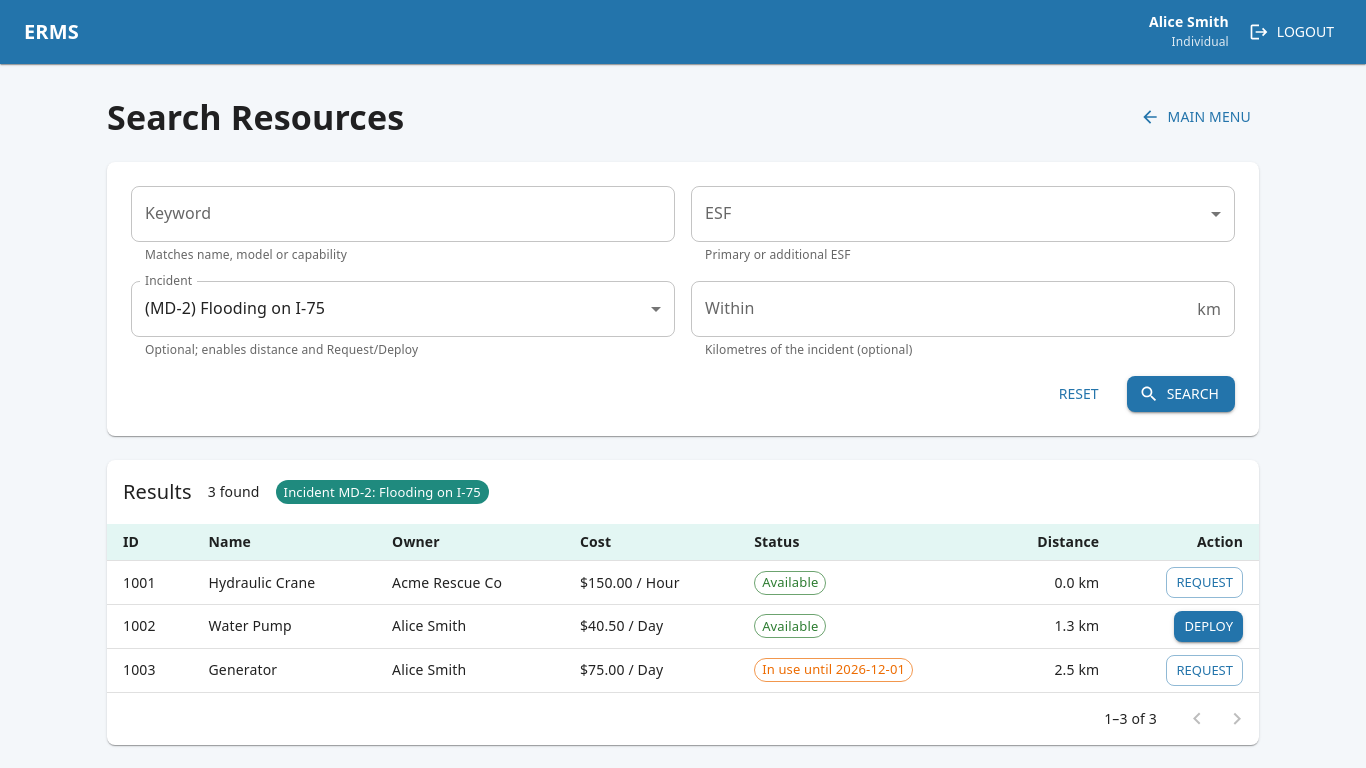
Scenario: SearchResourcesPage › requires an incident before searching by distance and clears distance with the incident
The width and height of the screenshot is (1366, 768).
Expected: the column heading "Action" is shown, [1115, 524, 1259, 561]
In the field labelled "Within": (940, 309) [691, 281, 1189, 337], type "0"
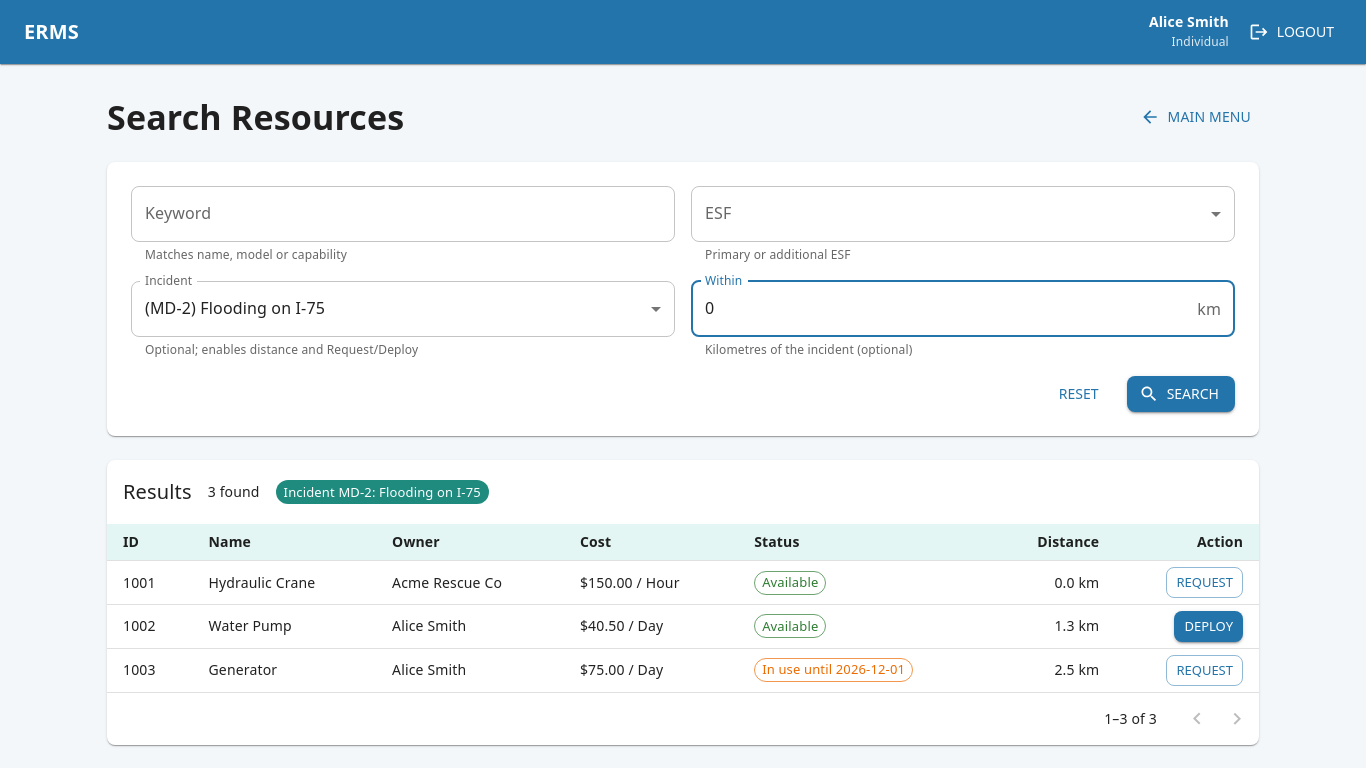
Click the button "Search": (1181, 394) [1127, 376, 1235, 412]
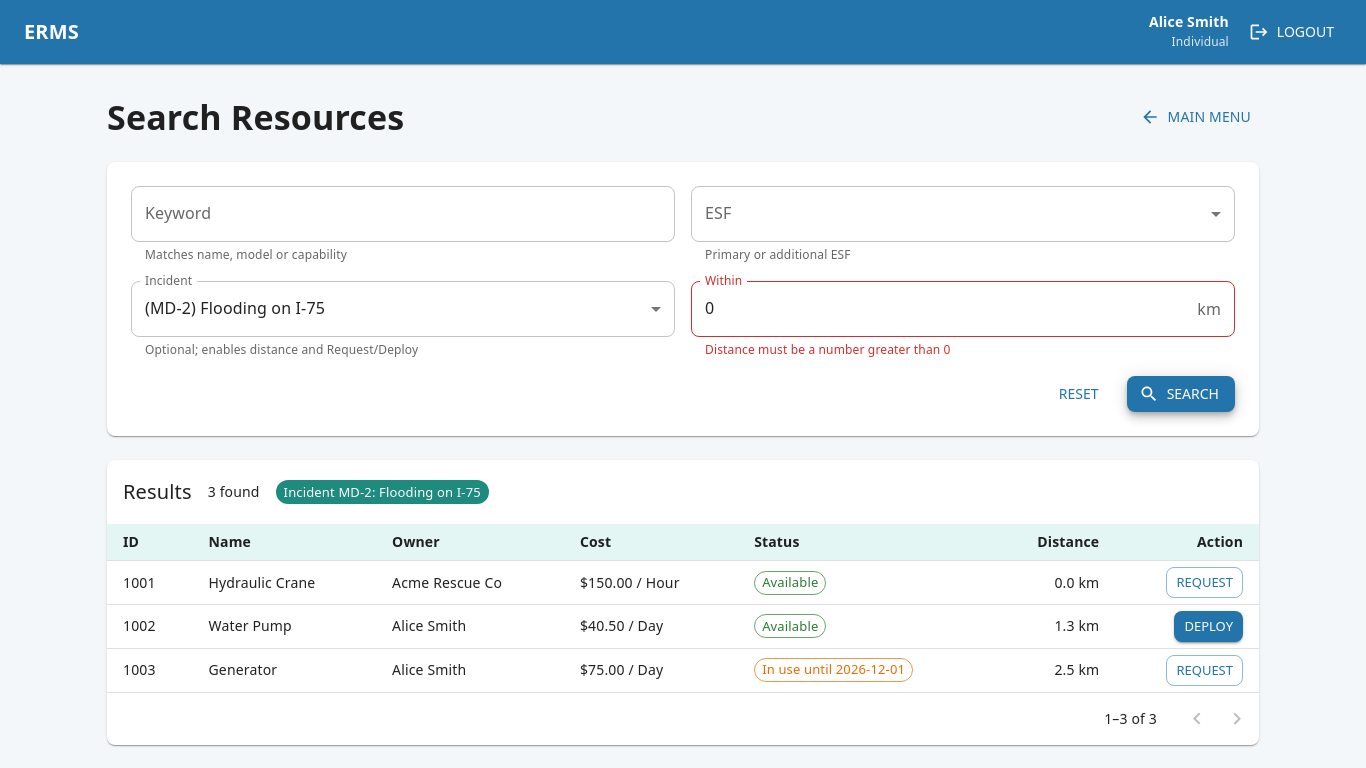
Expected: the text "Distance must be a number greater than 0" is shown, [705, 341, 951, 358]
Click the dropdown named "incident": (235, 308) [145, 297, 325, 319]
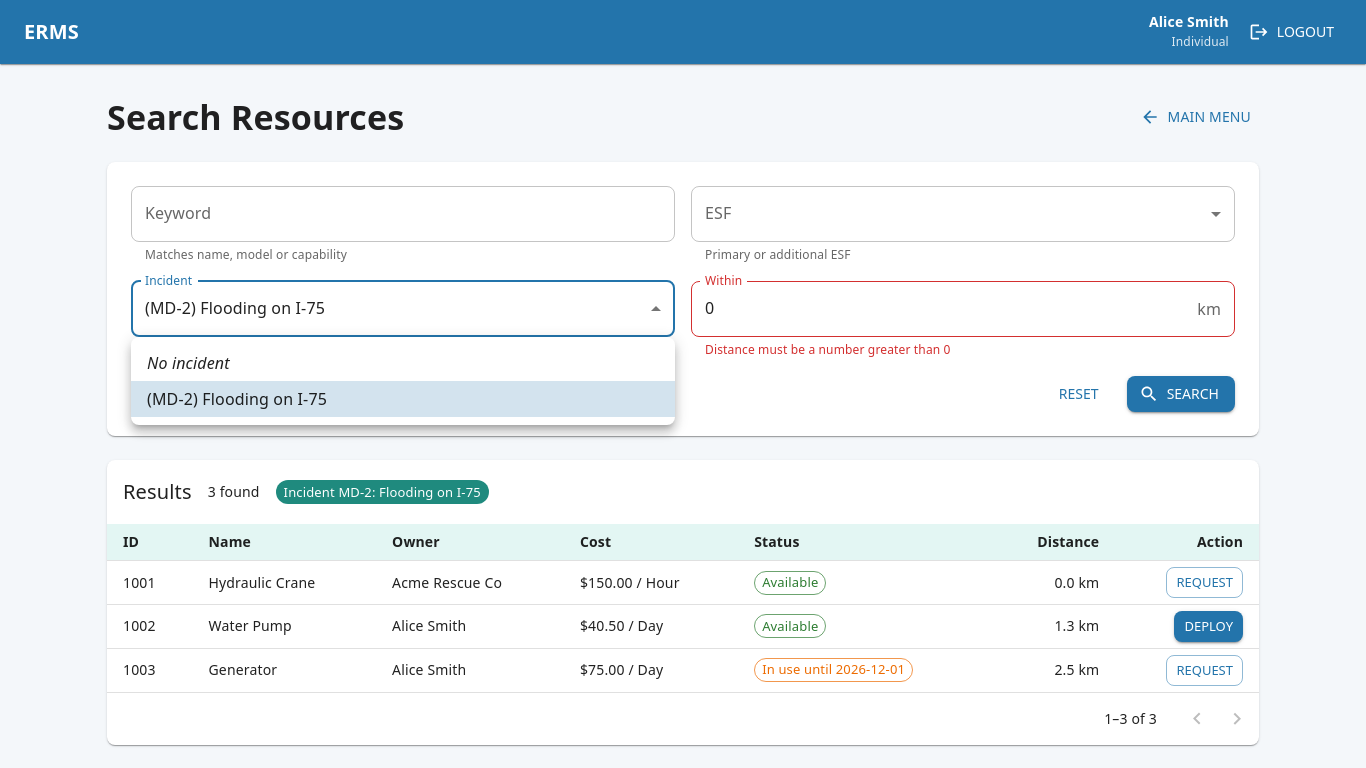
Click the option "No incident": (188, 363) [147, 352, 230, 374]
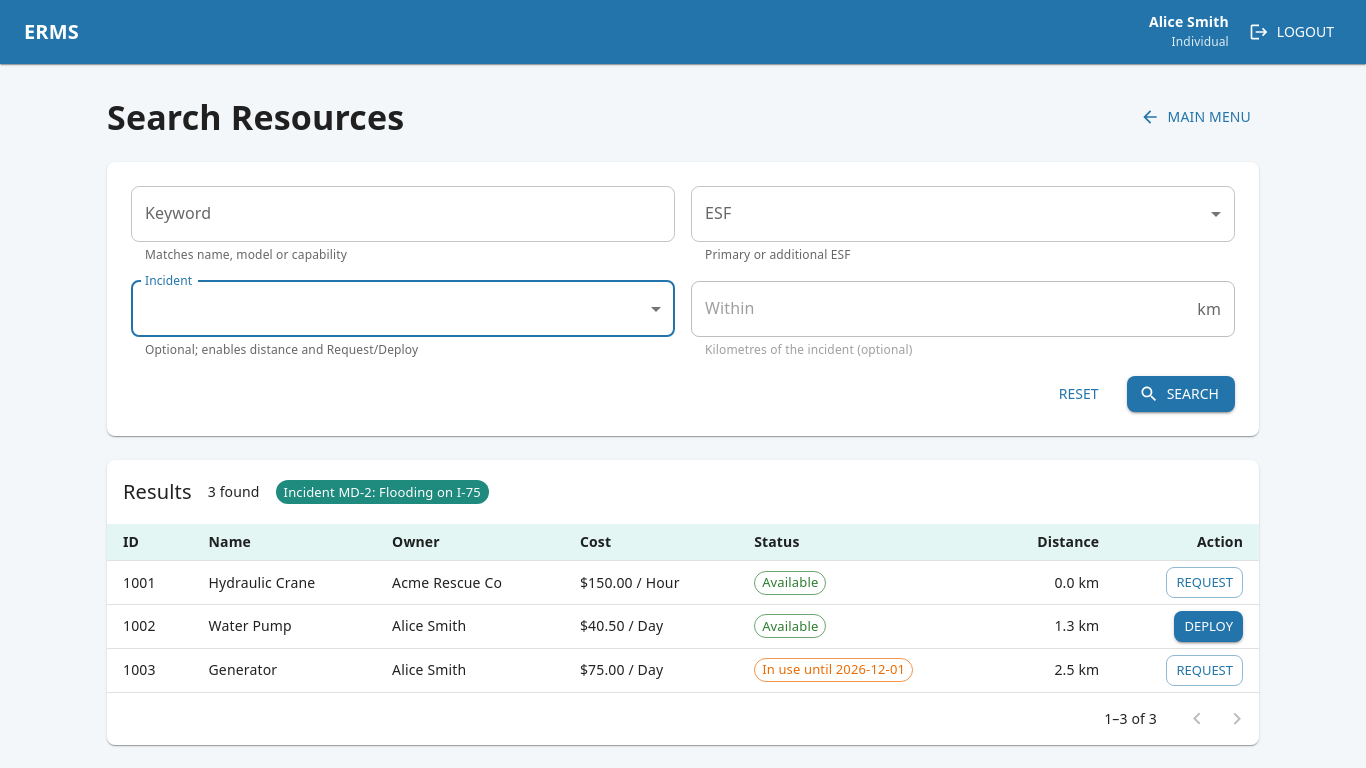
Expected: the field labelled "Within" is empty, [691, 281, 1189, 337]
Expected: the field labelled "Within" is disabled, [691, 281, 1189, 337]
